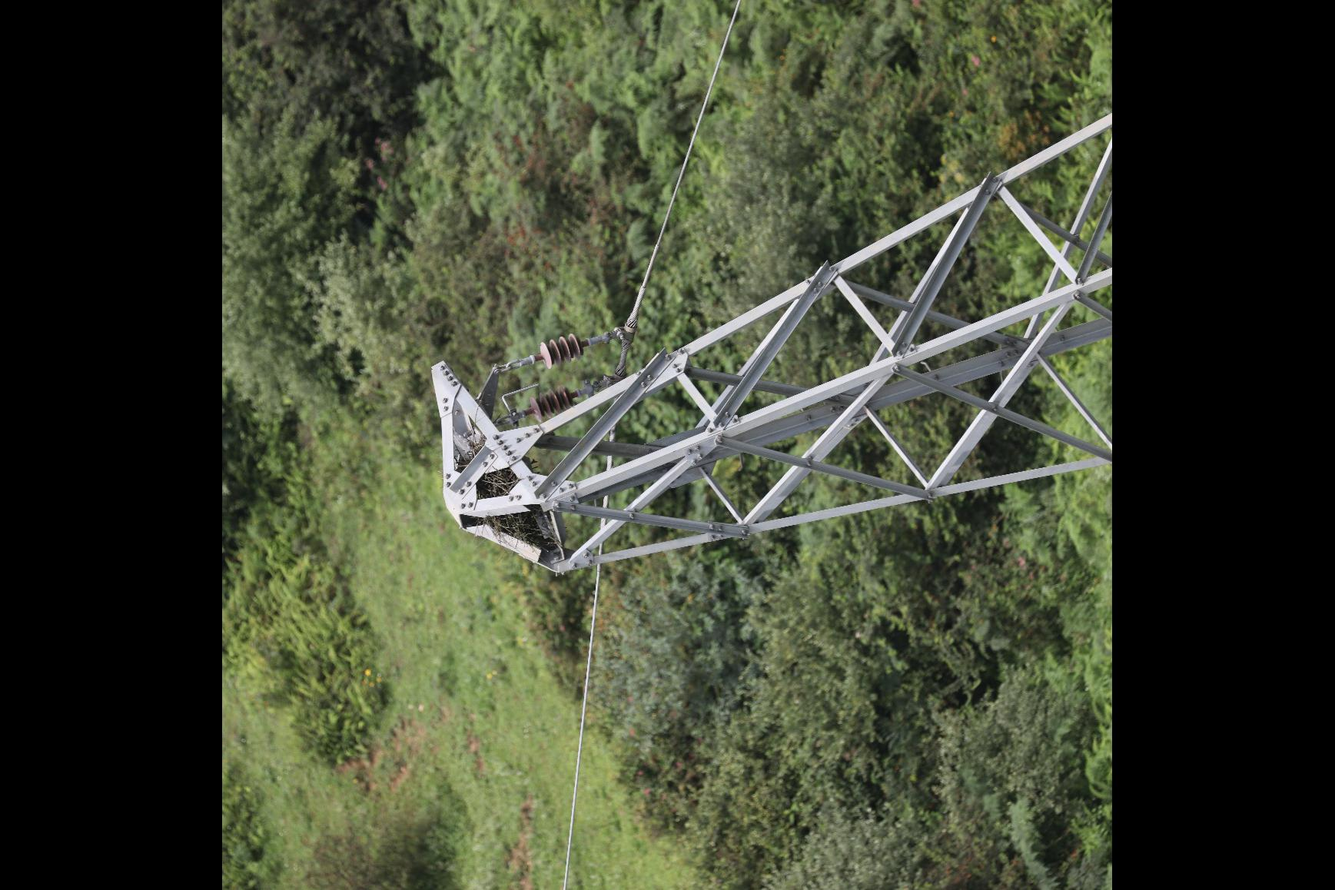nest: (476, 469, 560, 556)
